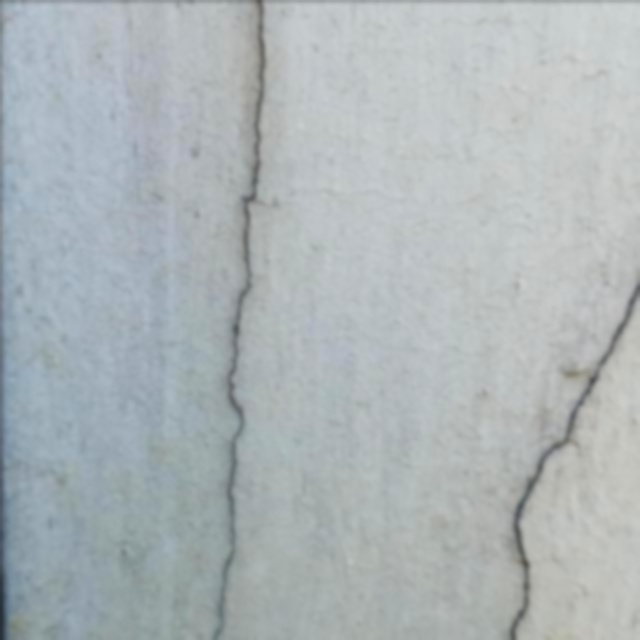SurfaceCrack: (477, 6, 640, 639), (174, 0, 310, 640)
